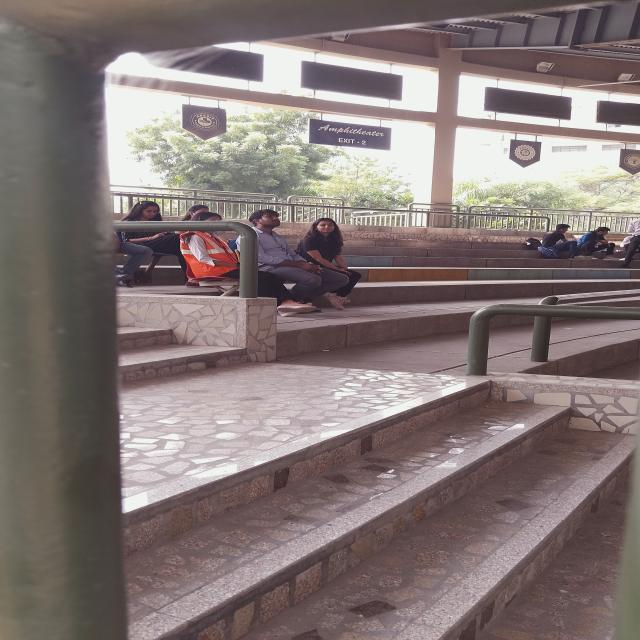unsafe: (238, 210, 302, 270), (299, 216, 346, 268)
